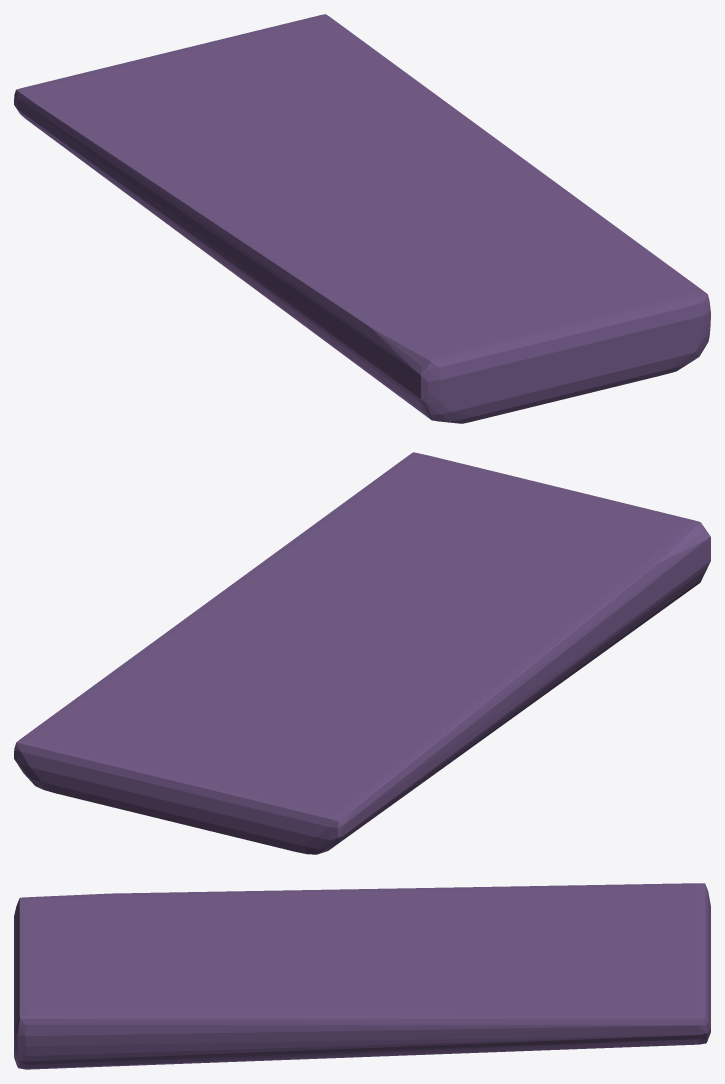
Rendered from right_knee_link_part_1.obj.
3 renders of one model, top to bottom at view 1: azimuth 30°, elevation 25°; view 2: azimuth 150°, elevation 25°; view 3: azimuth 270°, elevation 25°, orthographic. The views are drawn at different scales.
Size of the model in its own units: 0.0551 by 0.0117 by 0.1176.
